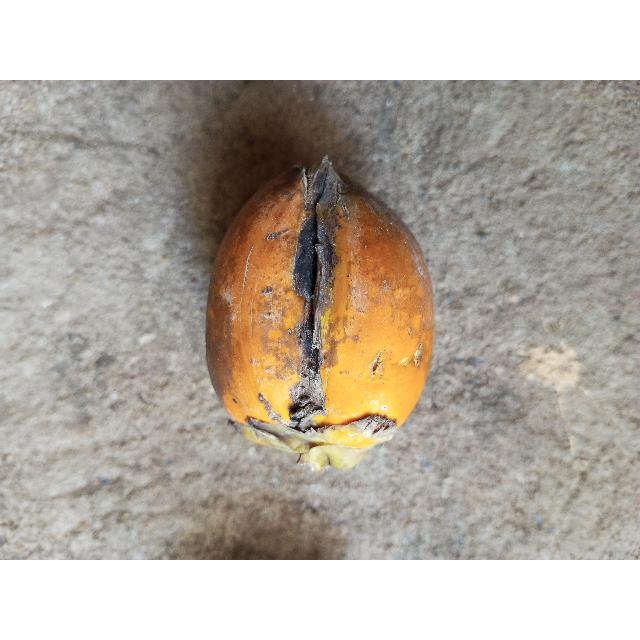damaged: (205, 158, 435, 471)
